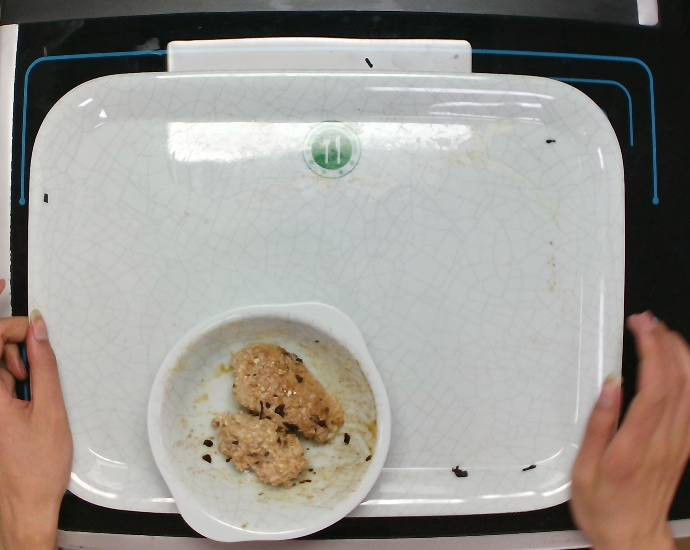JYsf-Shuang_Er_Wan: (141, 296, 400, 550)
